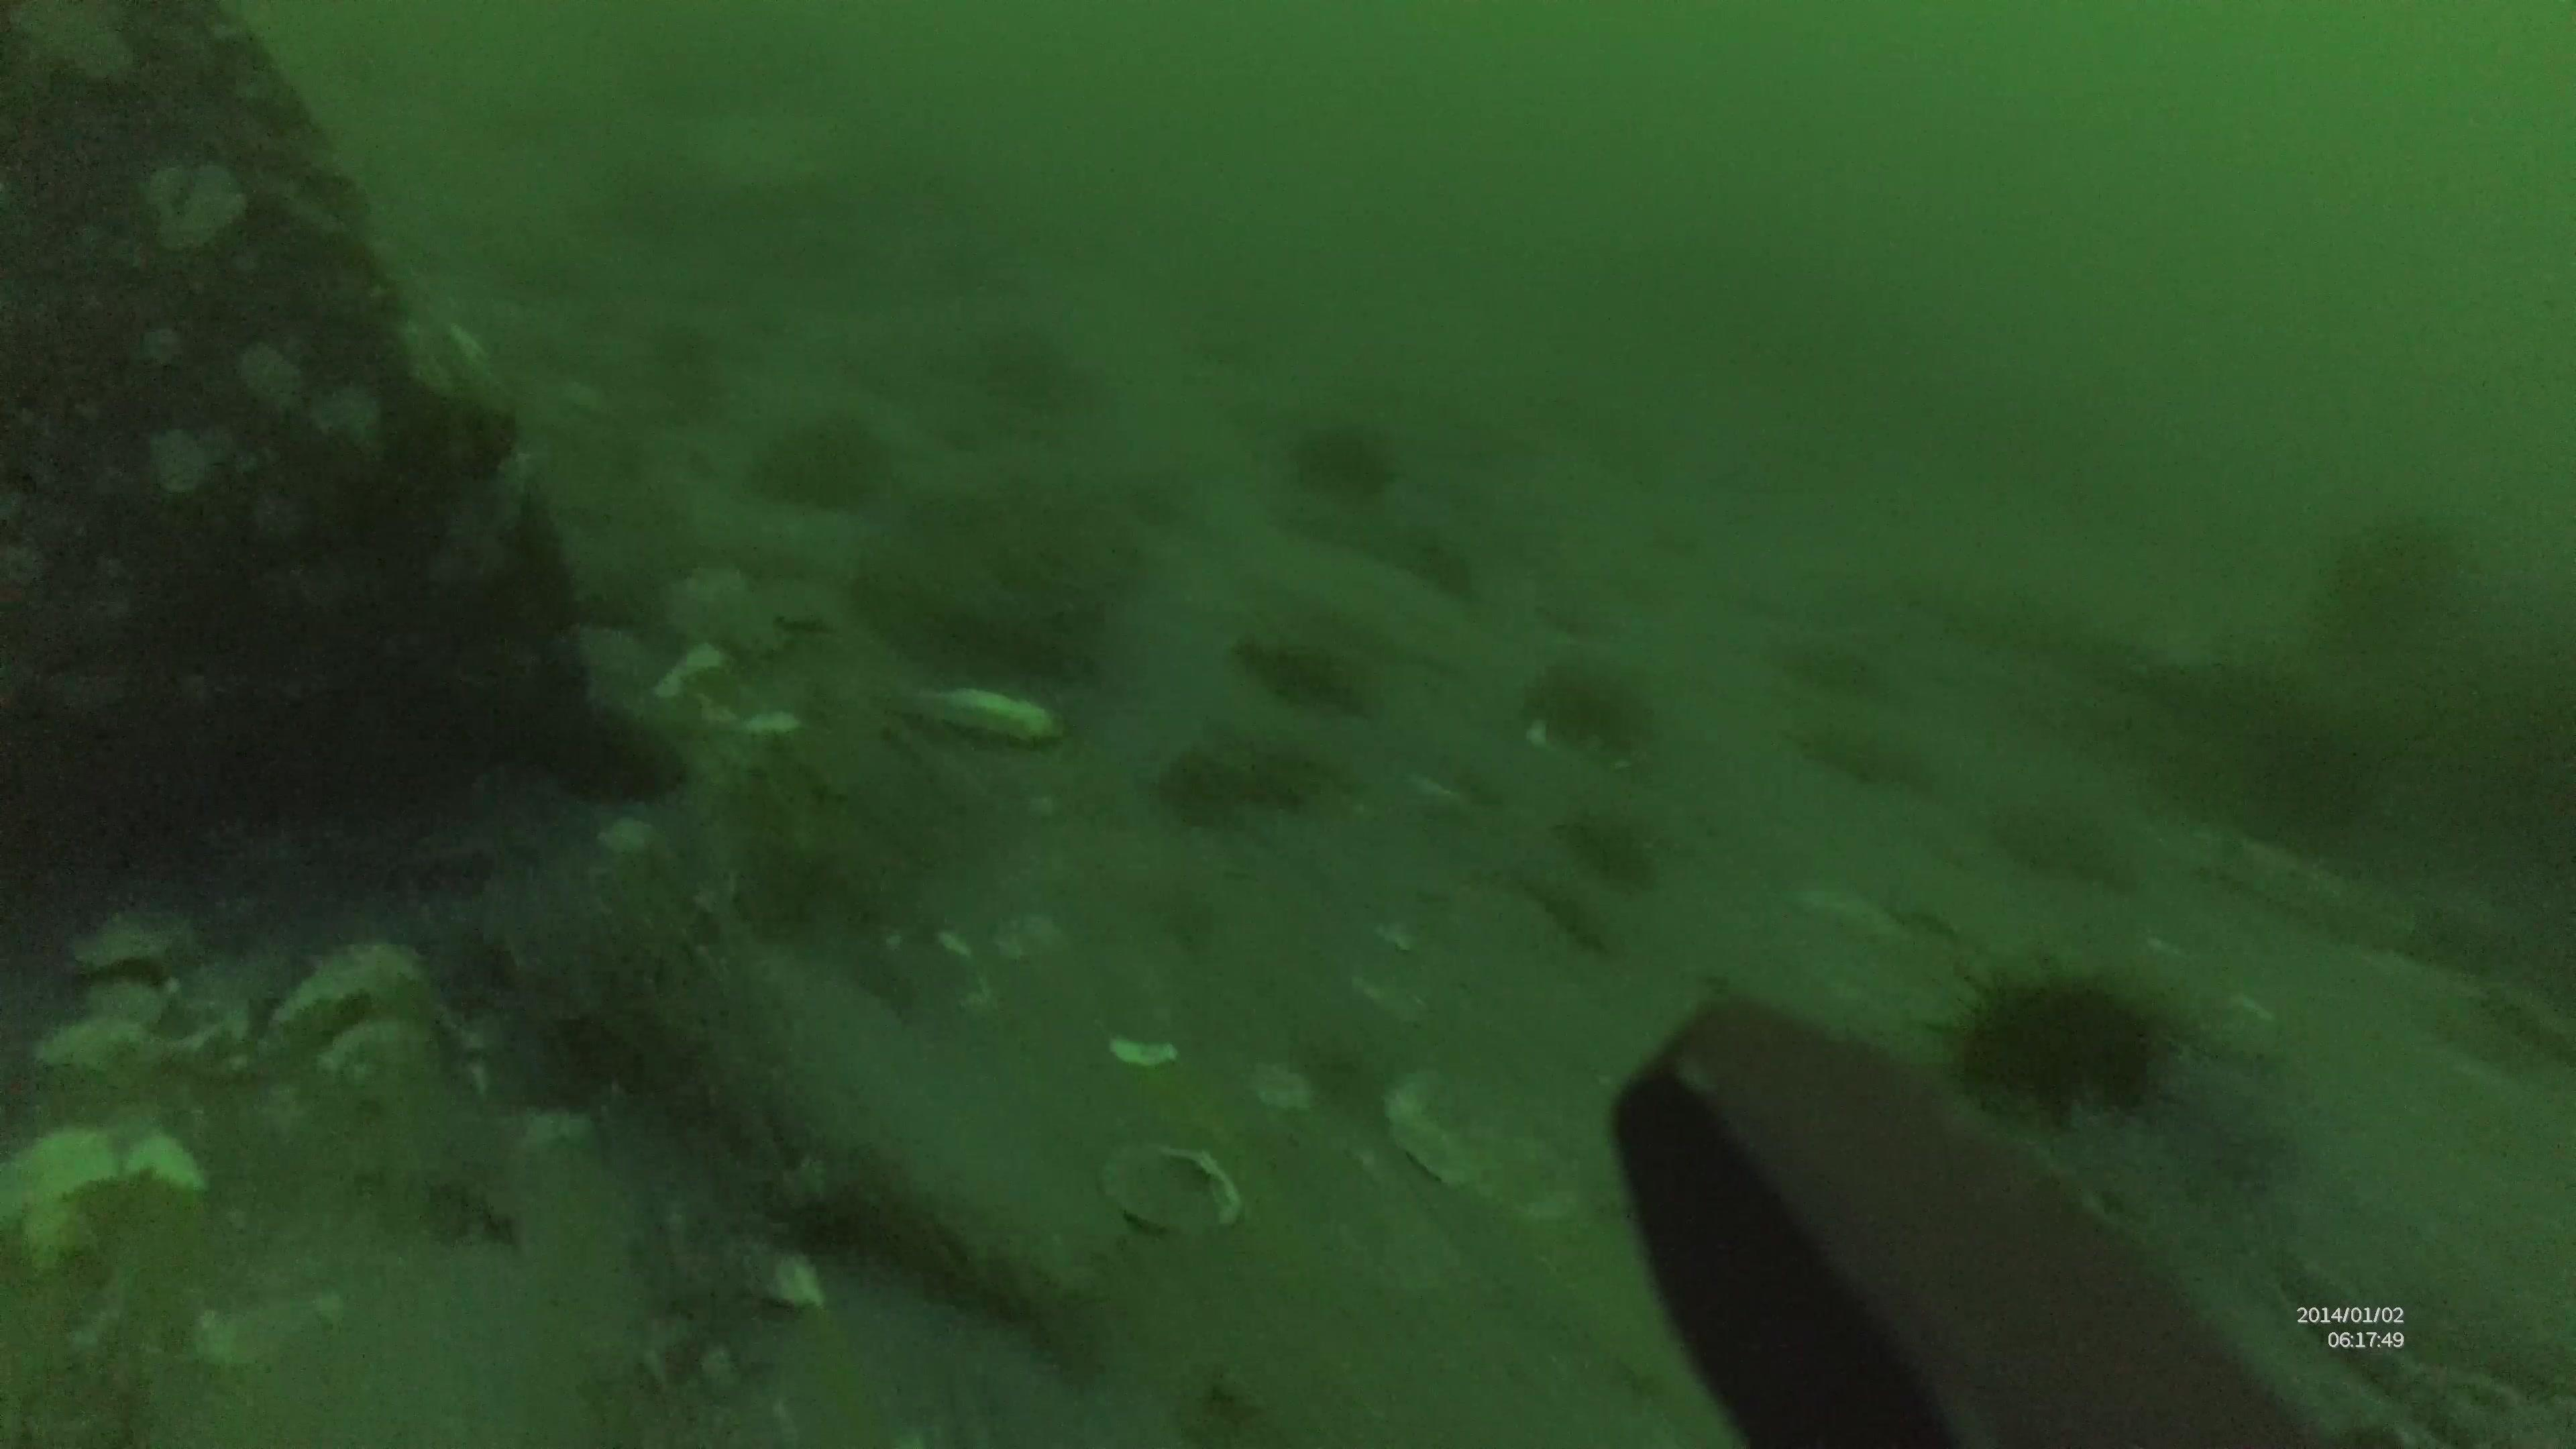echinus: (1921, 954, 2194, 1136)
scallop: (1782, 878, 1916, 948), (2206, 978, 2279, 1062)
